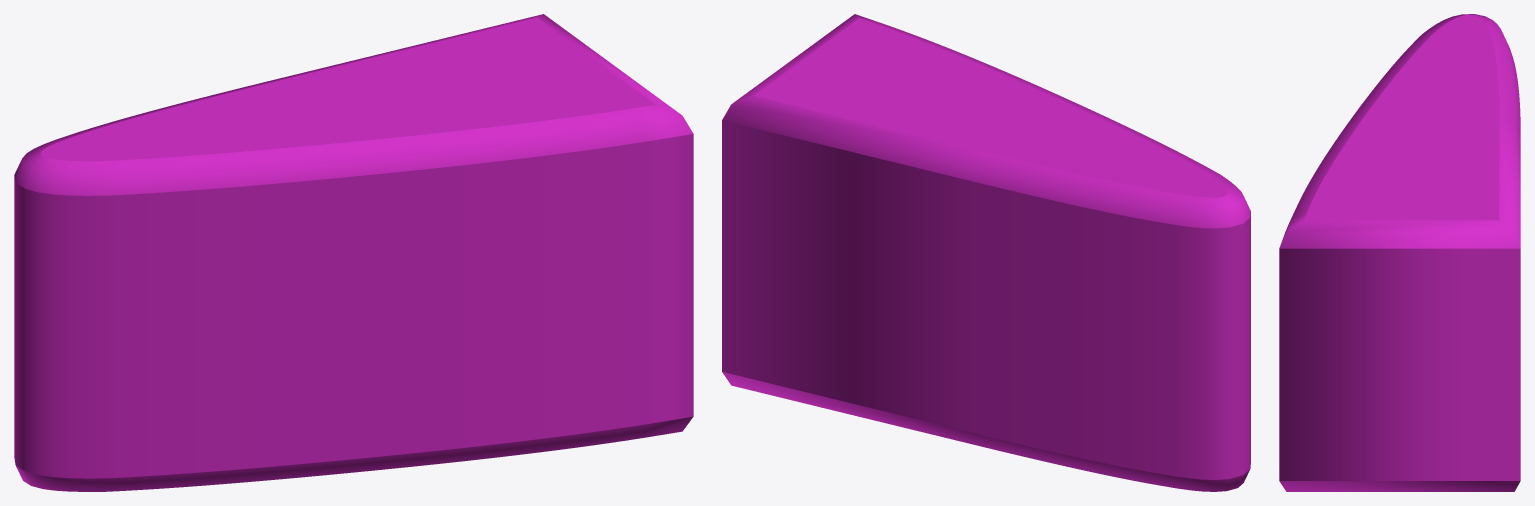
File: MinusSign.fbx
3 views of the same model, side by side, from view 1: azimuth 30°, elevation 25°; view 2: azimuth 150°, elevation 25°; view 3: azimuth 270°, elevation 25° (orthographic). The views are drawn at different scales.
Parts seen in each view (by area): view 1: MinusSign; view 2: MinusSign; view 3: MinusSign.
Boxes of the visible parts, x1,y1,x2,y2 form: MinusSign: (14,14,693,491); MinusSign: (722,14,1250,491); MinusSign: (1279,14,1520,491).
Size of the model in its own units: 0.2481 by 0.14 by 0.1132.
